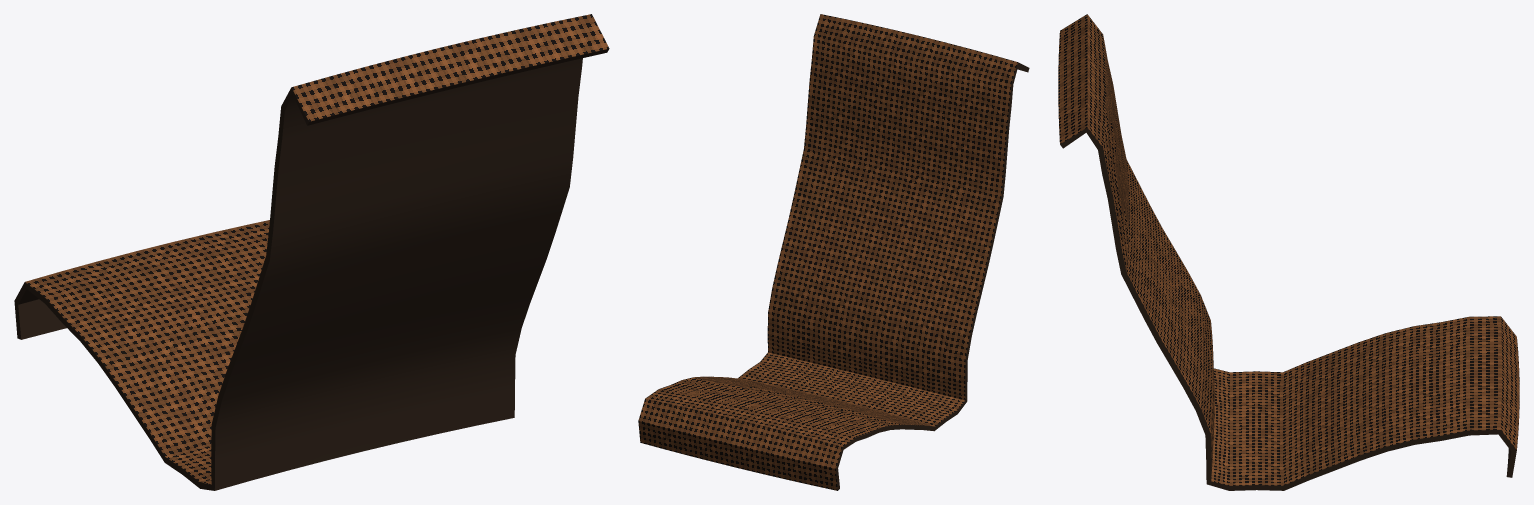
The model's file is seatcover_a75_beads.glb.
3 views of the same model, side by side, from view 1: azimuth 30°, elevation 25°; view 2: azimuth 150°, elevation 25°; view 3: azimuth 270°, elevation 25° (orthographic). The views are drawn at different scales.
Visible parts, largest first — view 1: SeatCover; view 2: SeatCover; view 3: SeatCover.
Boxes of the visible parts, x1=… form: SeatCover: x1=14, y1=14, x2=609, y2=490; SeatCover: x1=638, y1=14, x2=1029, y2=490; SeatCover: x1=1058, y1=14, x2=1519, y2=490.
Bounding box in the file's own units: 0.38 × 0.5703 × 0.6518.
2 materials, 1 textured.
